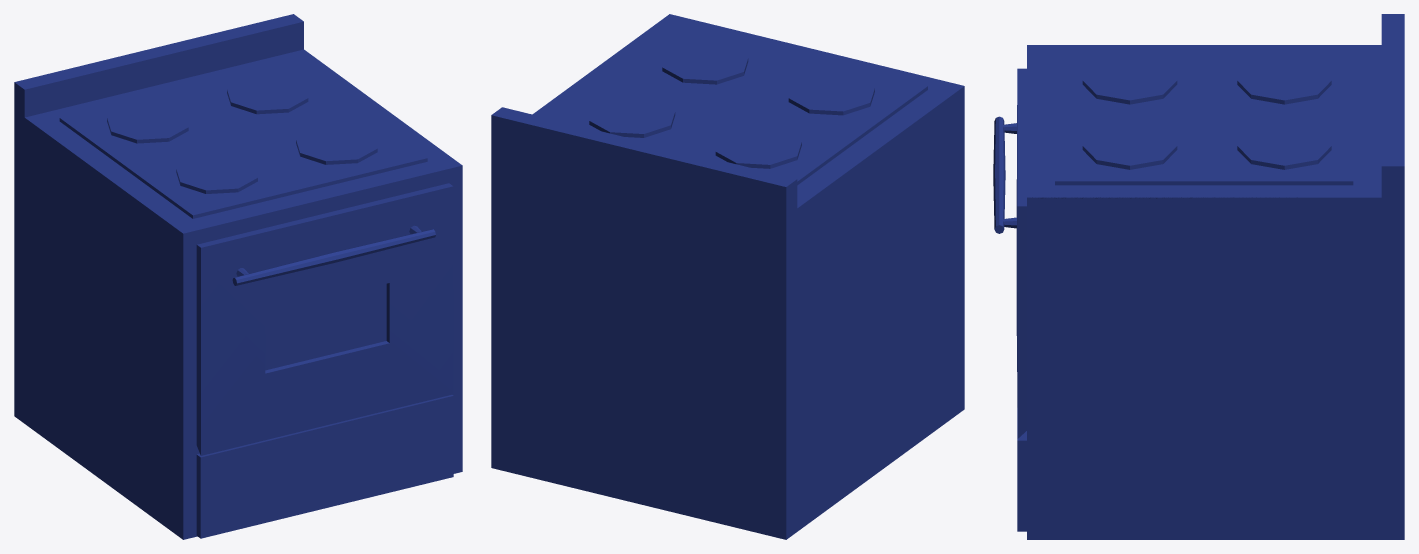
Rendered from fogao.fbx.
3 views of the same model, side by side, from view 1: azimuth 30°, elevation 25°; view 2: azimuth 150°, elevation 25°; view 3: azimuth 270°, elevation 25° (orthographic). The views are drawn at different scales.
Parts seen in each view (by area): view 1: Fogão; view 2: Fogão; view 3: Fogão.
Boxes of the visible parts, <box> form: Fogão: <box>14,14,462,539</box>; Fogão: <box>491,14,964,539</box>; Fogão: <box>993,14,1404,539</box>.
Bounding box in the file's own units: 210 × 240 × 240.
